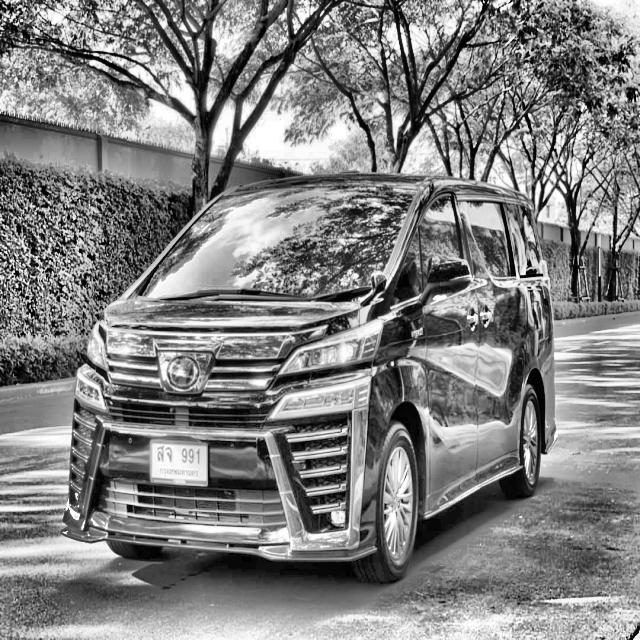license-plate: (149, 439, 209, 488)
